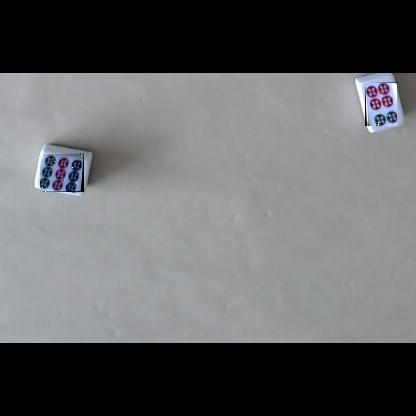6p: (365, 82, 397, 126)
9p: (40, 153, 84, 192)
